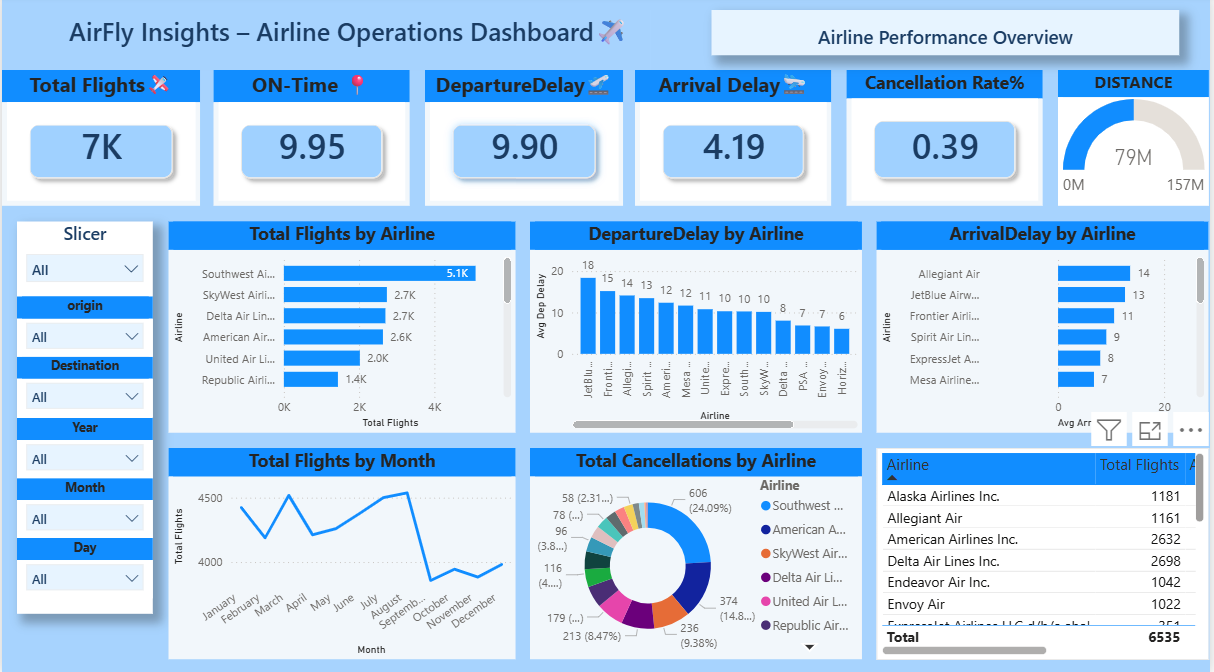

Layout of this report page (visuals, bound fields, positions):
{"tool":"powerbi","page":{"name":"Overview","canvas":[1280,720],"ordinal":0},"visuals":[{"type":"textbox","box":[48,0,640,80],"z":0},{"type":"cardVisual","title":"Total Flights🛩️ ","fields":{"Data":["data.Total Flights"]},"box":[0,80,210,144],"z":1000},{"type":"cardVisual","title":" DepartureDelay🛫","fields":{"Data":["data.Avg Dep Delay"]},"box":[448,80,210,144],"z":2000},{"type":"cardVisual","title":"ON-Time 📍","fields":{"Data":["data.On Time %"]},"box":[224,80,208,144],"z":3000},{"type":"cardVisual","title":"Arrival Delay🛬","fields":{"Data":["data.avg arrival delay"]},"box":[672,80,208,144],"z":4000},{"type":"cardVisual","title":"Cancellation Rate%","fields":{"Data":["data.Cancellation Rate"]},"box":[896,80,208,144],"z":5000},{"type":"slicer","title":"Slicer    ","fields":{"Values":["data.Airline"]},"box":[16,240,144,416],"z":6000},{"type":"slicer","title":"Month","fields":{"Values":["data.Date.Variation.Date Hierarchy.Month"]},"box":[16,512,144,64],"z":7000},{"type":"slicer","title":"Year","fields":{"Values":["data.Date.Variation.Date Hierarchy.Year","data.Date.Variation.Date Hierarchy.Day"]},"box":[16,448,144,64],"z":8000},{"type":"slicer","title":"Destination","fields":{"Values":["data.DEST"]},"box":[16,384,144,64],"z":9000},{"type":"barChart","fields":{"Category":["data.Airline"],"Y":["data.Total Flights"]},"box":[176,240,368,224],"z":10000},{"type":"columnChart","title":"DepartureDelay by Airline","fields":{"Category":["data.Airline"],"Y":["data.Avg Dep Delay"]},"box":[560,240,352,224],"z":11000},{"type":"barChart","title":" ArrivalDelay by Airline","fields":{"Category":["data.Airline"],"Y":["data.avg arrival delay"]},"box":[928,240,352,224],"z":12000},{"type":"slicer","title":"origin","fields":{"Values":["data.ORIGIN"]},"box":[16,320,144,64],"z":13000},{"type":"donutChart","fields":{"Y":["data.Total Cancellations"],"Category":["data.Airline"]},"box":[560,480,352,224],"z":14000},{"type":"lineChart","title":"Total Flights by Month","fields":{"Category":["data.Date.Variation.Date Hierarchy.Month"],"Y":["data.Total Flights"]},"box":[176,480,368,224],"z":15000},{"type":"tableEx","fields":{"Values":["data.Airline","data.Total Flights","data.Avg Dep Delay","data.avg arrival delay","data.On Time %"]},"box":[928,480,352,224],"z":16000},{"type":"slicer","title":"Day","fields":{"Values":["data.Date.Variation.Date Hierarchy.Day"]},"box":[16,576,144,64],"z":17000},{"type":"actionButton","box":[752,16,496,48],"z":18000},{"type":"gauge","title":"DISTANCE","fields":{"Y":["Sum(data.DISTANCE)"]},"box":[1120,80,160,144],"z":19000}]}

Visuals, with their boxes in screenshot pixels (x1, y1, x2, y2), scaled from the page's 1280x720 canvas onto the 1214x672 screenshot:
textbox: Rect(46, 0, 653, 75)
"Total Flights🛩️ " cardVisual: Rect(0, 75, 199, 209)
" DepartureDelay🛫" cardVisual: Rect(425, 75, 624, 209)
"ON-Time 📍" cardVisual: Rect(212, 75, 410, 209)
"Arrival Delay🛬" cardVisual: Rect(637, 75, 835, 209)
"Cancellation Rate%" cardVisual: Rect(850, 75, 1047, 209)
"Slicer    " slicer: Rect(15, 224, 152, 612)
"Month" slicer: Rect(15, 478, 152, 538)
"Year" slicer: Rect(15, 418, 152, 478)
"Destination" slicer: Rect(15, 358, 152, 418)
barChart - data.Airline x data.Total Flights: Rect(167, 224, 516, 433)
"DepartureDelay by Airline" columnChart: Rect(531, 224, 865, 433)
" ArrivalDelay by Airline" barChart: Rect(880, 224, 1213, 433)
"origin" slicer: Rect(15, 299, 152, 358)
donutChart - data.Total Cancellations x data.Airline: Rect(531, 448, 865, 657)
"Total Flights by Month" lineChart: Rect(167, 448, 516, 657)
tableEx - data.Airline x data.Total Flights: Rect(880, 448, 1213, 657)
"Day" slicer: Rect(15, 538, 152, 597)
actionButton: Rect(713, 15, 1184, 60)
"DISTANCE" gauge: Rect(1062, 75, 1213, 209)
